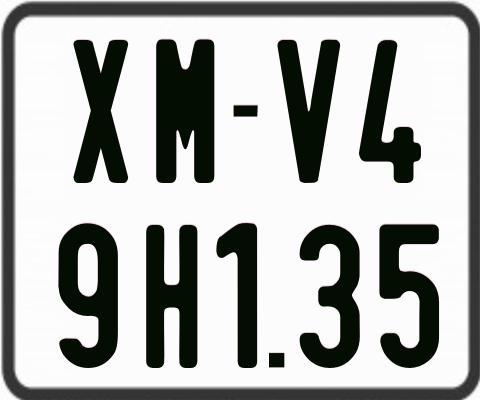1: (216, 221, 262, 367)
3: (300, 222, 361, 368)
4: (359, 37, 422, 183)
5: (378, 222, 443, 368)
9: (58, 223, 123, 371)
H: (145, 222, 202, 369)
M: (156, 36, 219, 181)
V: (276, 38, 341, 183)
X: (71, 38, 125, 184)
